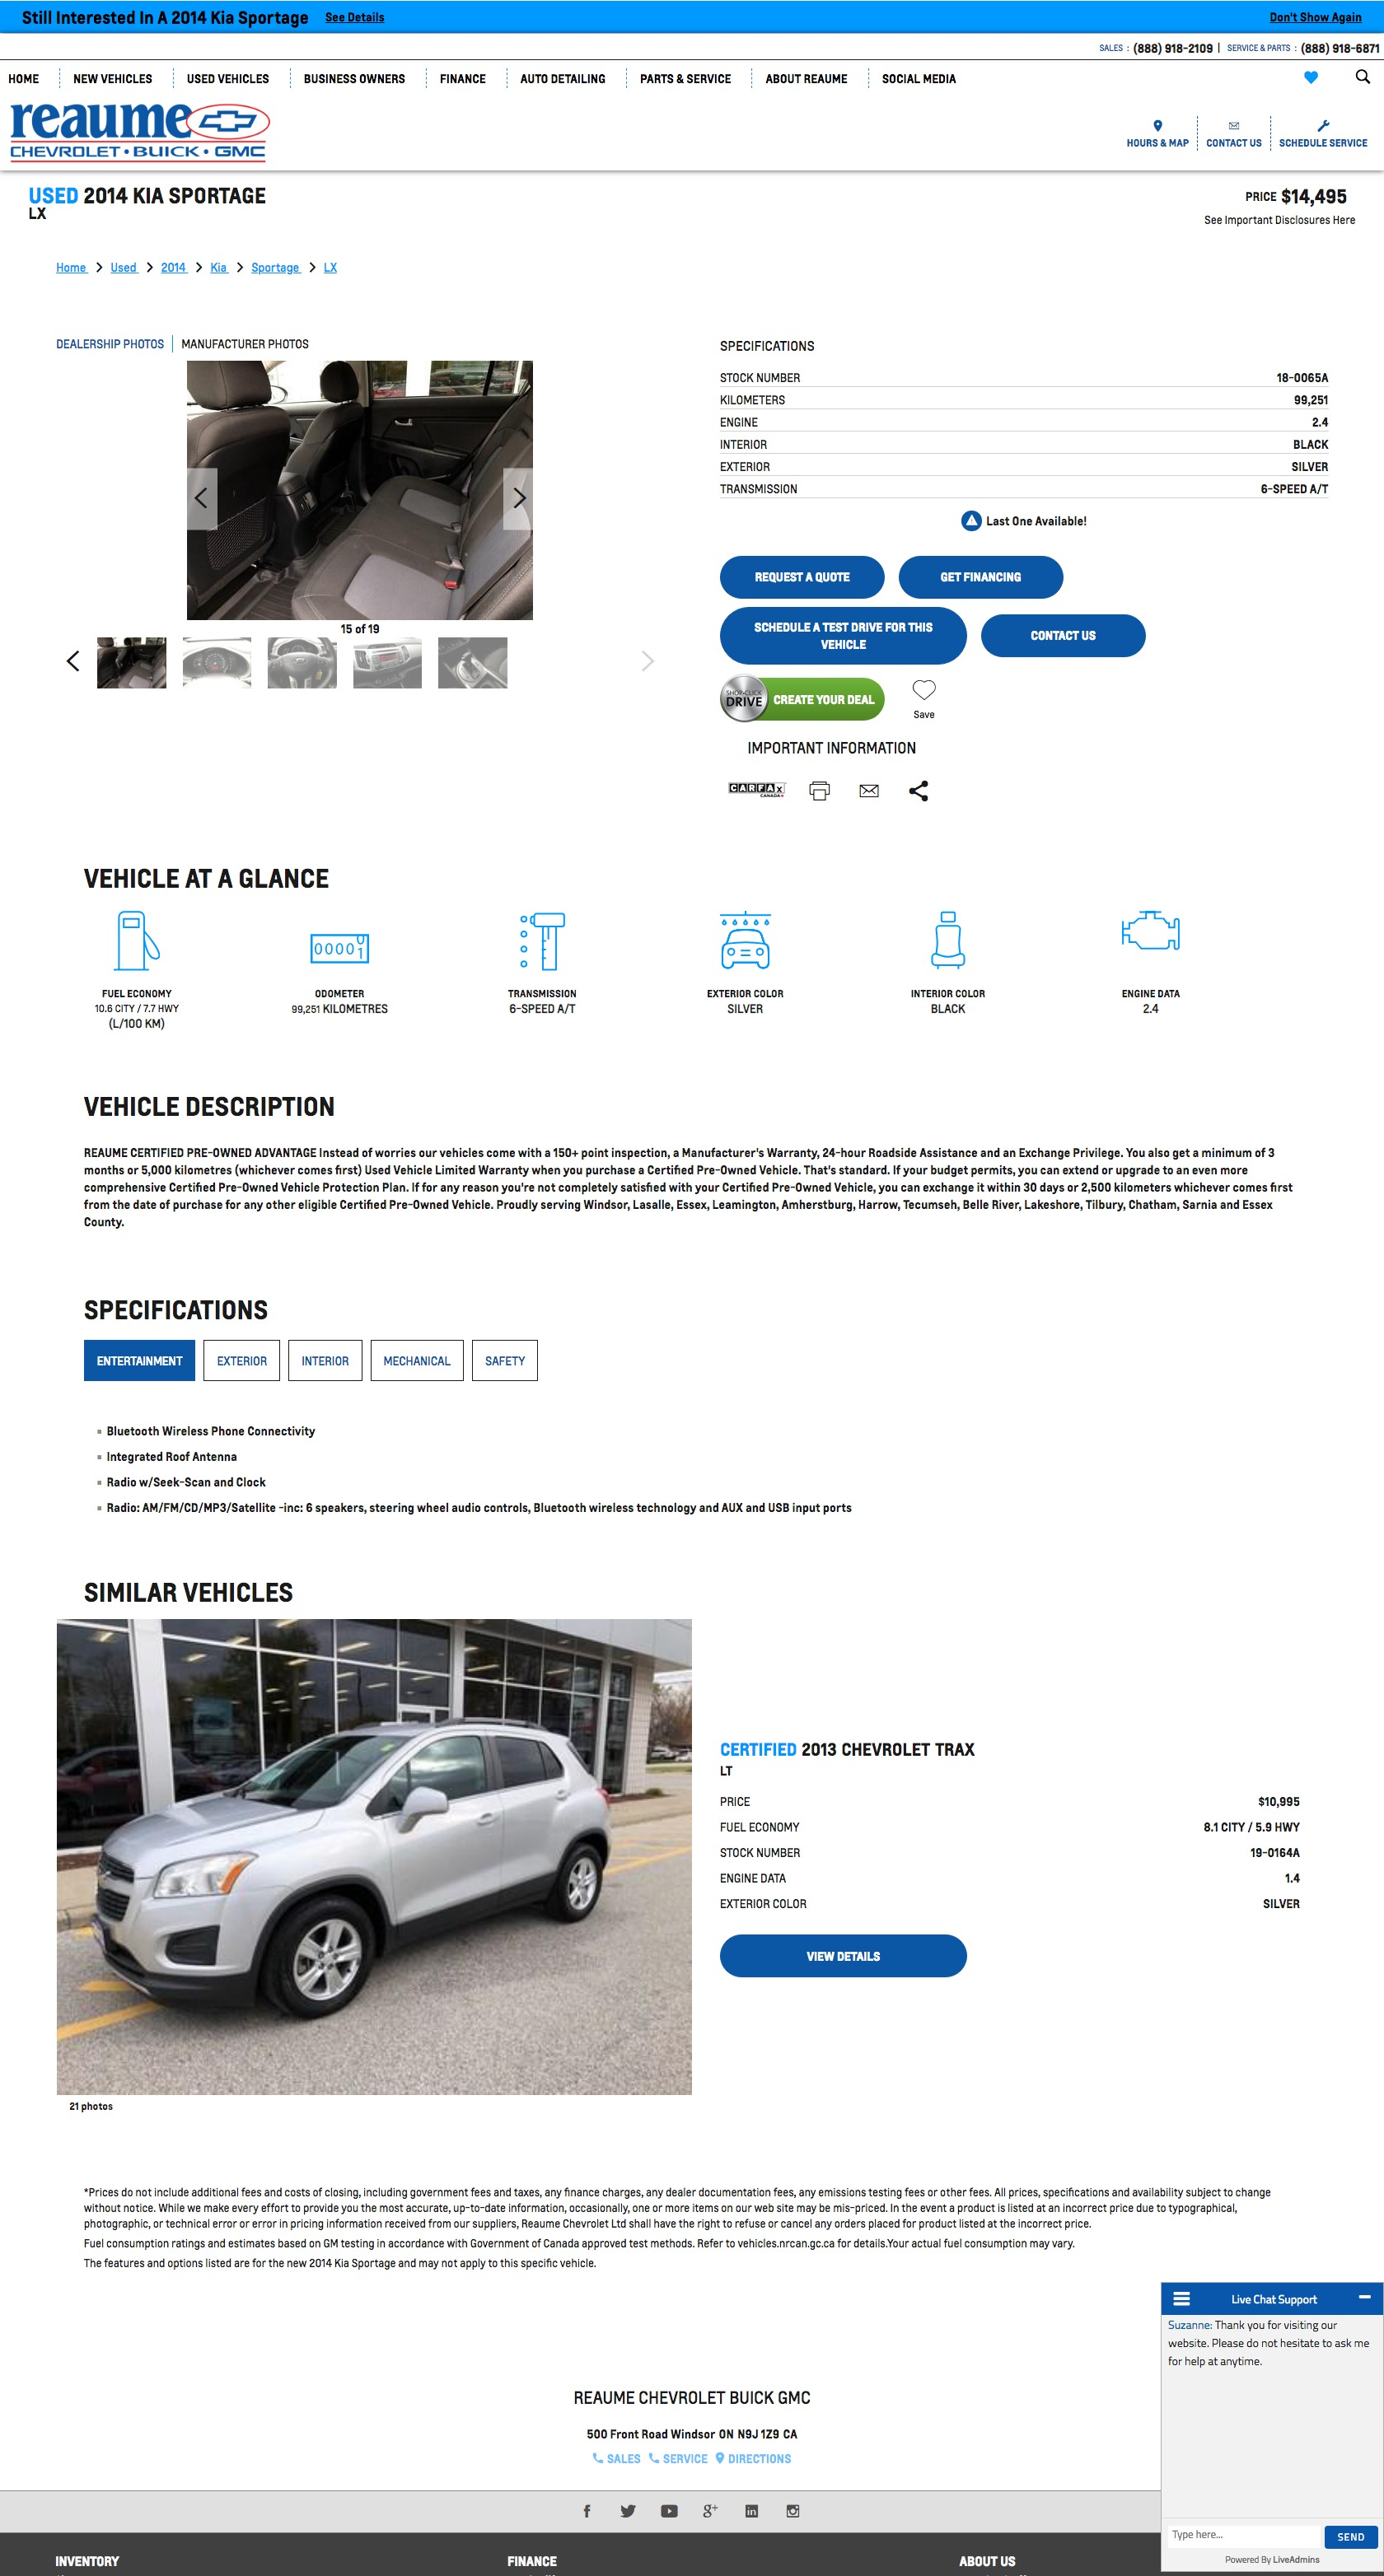car: (632, 644, 661, 681)
